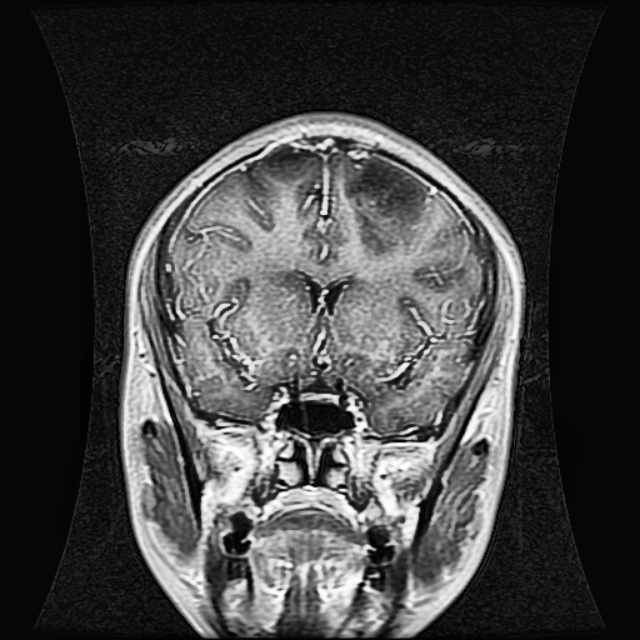Meningioma: (337, 153, 432, 255)
